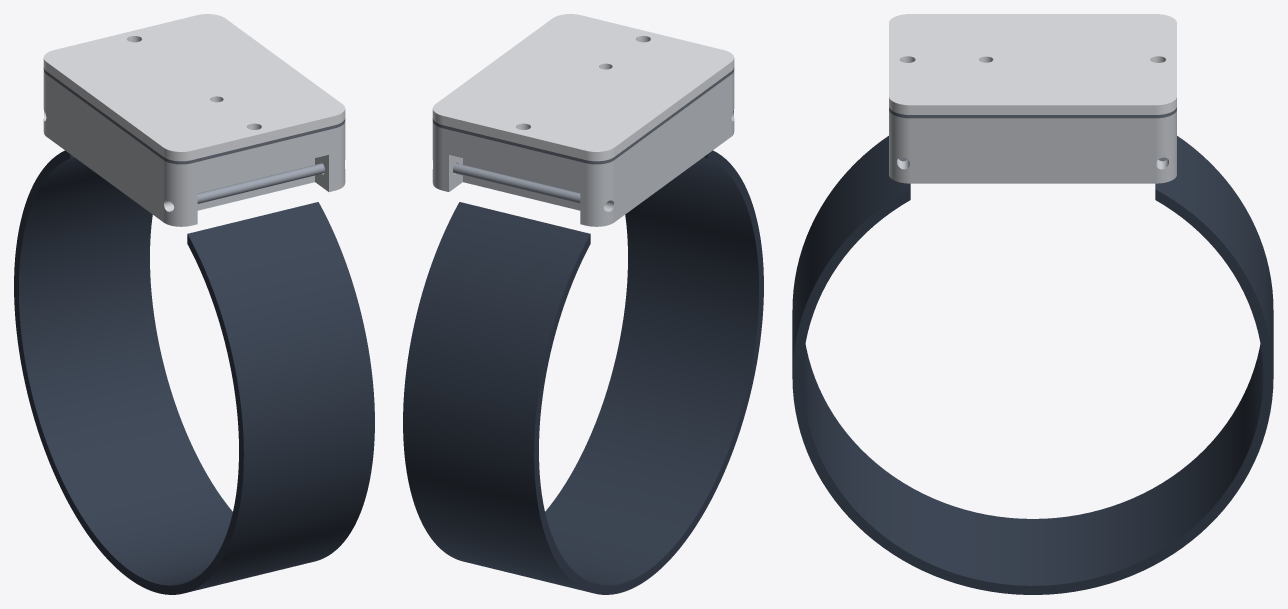
3 views of the same model, side by side, from view 1: azimuth 30°, elevation 25°; view 2: azimuth 150°, elevation 25°; view 3: azimuth 270°, elevation 25° (orthographic). The views are drawn at different scales.
Visible parts, largest first — view 1: Textile strap, Enclosure lid, Enclosure base, Spring bars, TPU gasket; view 2: Textile strap, Enclosure lid, Enclosure base, Spring bars, TPU gasket; view 3: Textile strap, Enclosure lid, Enclosure base, TPU gasket.
Boxes of the visible parts, x1,y1,x2,y2 form: Textile strap: (14, 150, 374, 594); Enclosure lid: (43, 14, 345, 161); Enclosure base: (43, 70, 345, 226); Spring bars: (197, 163, 324, 203); TPU gasket: (43, 67, 345, 164); Textile strap: (403, 150, 763, 594); Enclosure lid: (432, 14, 734, 161); Enclosure base: (432, 70, 734, 226); Spring bars: (453, 163, 580, 203); TPU gasket: (432, 67, 734, 164); Textile strap: (792, 136, 1273, 594); Enclosure lid: (889, 14, 1176, 114); Enclosure base: (889, 110, 1176, 183); TPU gasket: (889, 107, 1176, 118).
Bounding box in the file's own units: 0.03 × 0.0769 × 0.0668.
